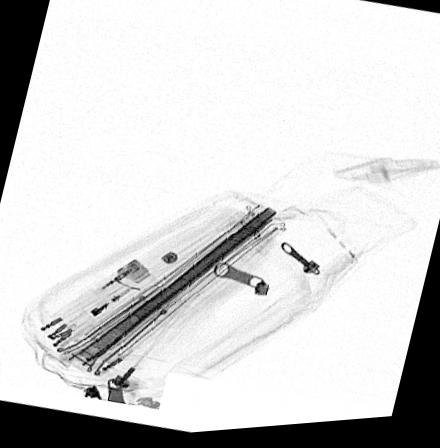Lighter: (54, 258, 157, 333)
